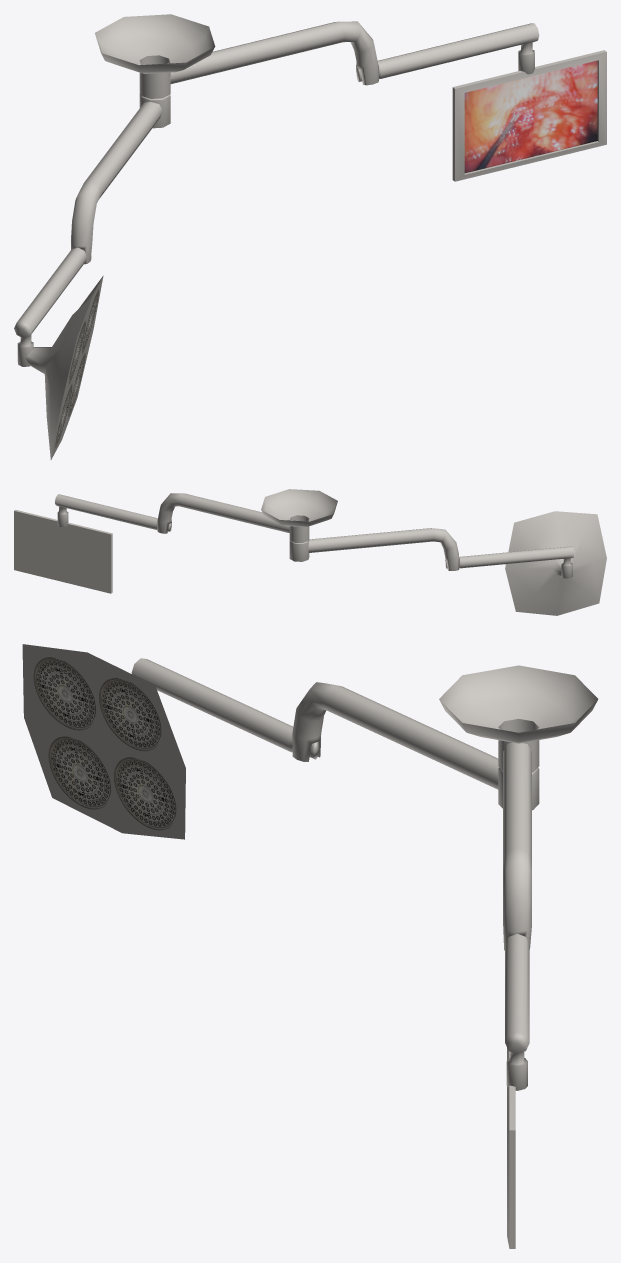
The model's file is light-TV.fbx.
3 renders of one model, top to bottom at view 1: azimuth 30°, elevation 25°; view 2: azimuth 150°, elevation 25°; view 3: azimuth 270°, elevation 25°, orthographic. The views are drawn at different scales.
Parts seen in each view (by area): view 1: pPlane1, pSphere1, pCylinder10, pCylinder13, pCylinder12, pCylinder14, pCylinder11; view 2: pCylinder13, pPlane1, pSphere1, pCylinder12, pCylinder10, pCylinder11, pCylinder14; view 3: pCylinder13, pSphere1, pCylinder12, pCylinder10, pCylinder11, pCylinder14, pPlane1.
Boxes of the visible parts, left/top/right/bottom form: pPlane1: left=452, top=50, right=606, bottom=181; pSphere1: left=95, top=14, right=215, bottom=128; pCylinder10: left=167, top=21, right=378, bottom=85; pCylinder13: left=25, top=275, right=103, bottom=459; pCylinder12: left=71, top=102, right=162, bottom=264; pCylinder14: left=356, top=23, right=539, bottom=82; pCylinder11: left=14, top=247, right=86, bottom=366; pCylinder13: left=505, top=511, right=606, bottom=615; pPlane1: left=14, top=509, right=112, bottom=593; pSphere1: left=261, top=489, right=337, bottom=561; pCylinder12: left=308, top=528, right=459, bottom=570; pCylinder10: left=157, top=493, right=296, bottom=533; pCylinder11: left=445, top=546, right=573, bottom=578; pCylinder14: left=55, top=494, right=171, bottom=531; pCylinder13: left=22, top=644, right=185, bottom=839; pSphere1: left=439, top=665, right=598, bottom=810; pCylinder12: left=292, top=682, right=498, bottom=789; pCylinder10: left=503, top=742, right=531, bottom=950; pCylinder11: left=131, top=658, right=319, bottom=759; pCylinder14: left=505, top=933, right=529, bottom=1090; pPlane1: left=507, top=1048, right=515, bottom=1248.
Size of the model in its own units: 160 by 46.88 by 84.7.
